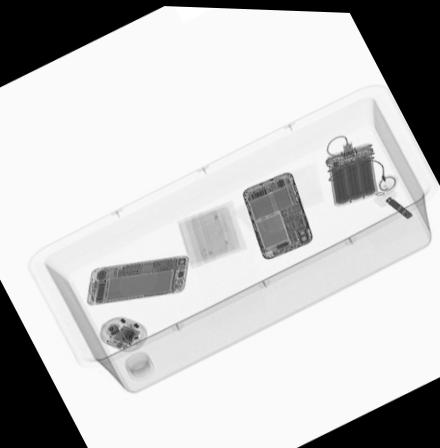Powerbank: (326, 139, 382, 207)
